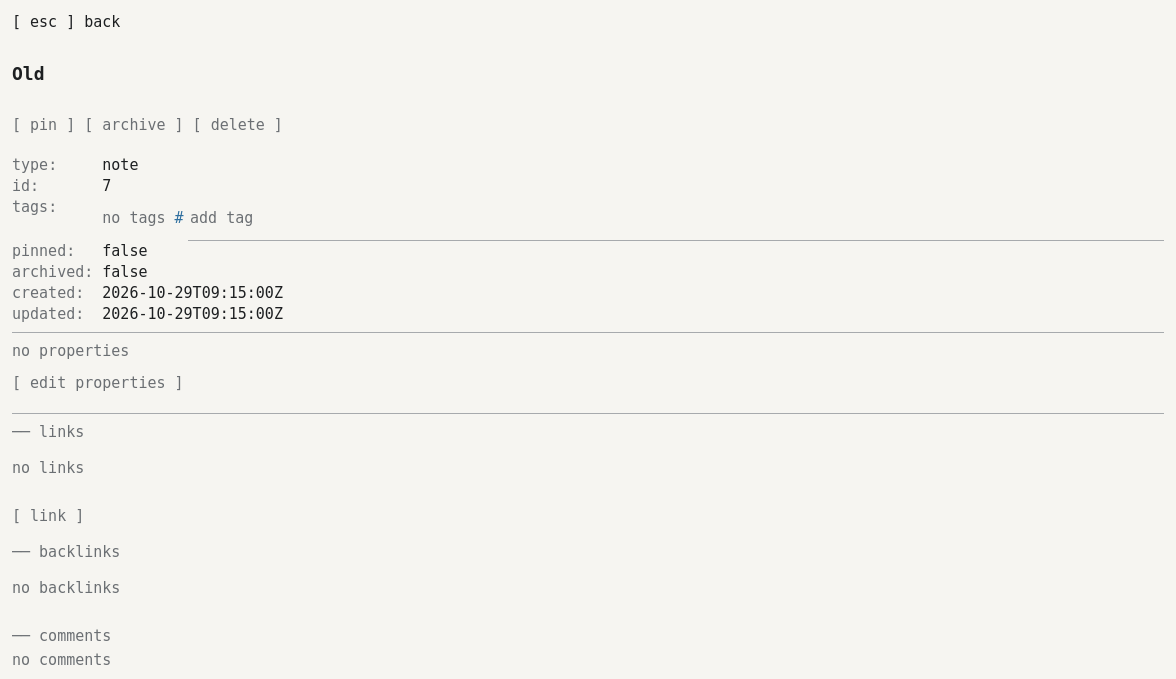
title › Enter saves the edited title with one PATCH
Click the button "Old". click: (28, 74)
box: 12,52 -> 44,96
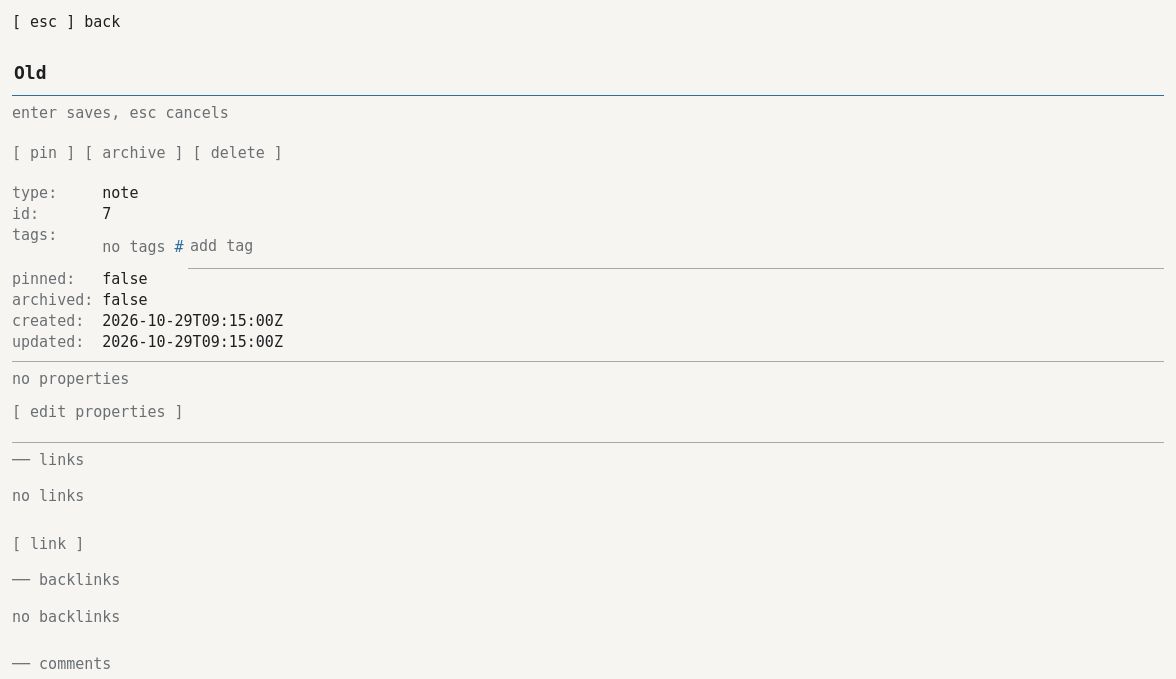
Replace the text in the field named "title" with "New". click: (588, 74)
box: 12,52 -> 1164,96
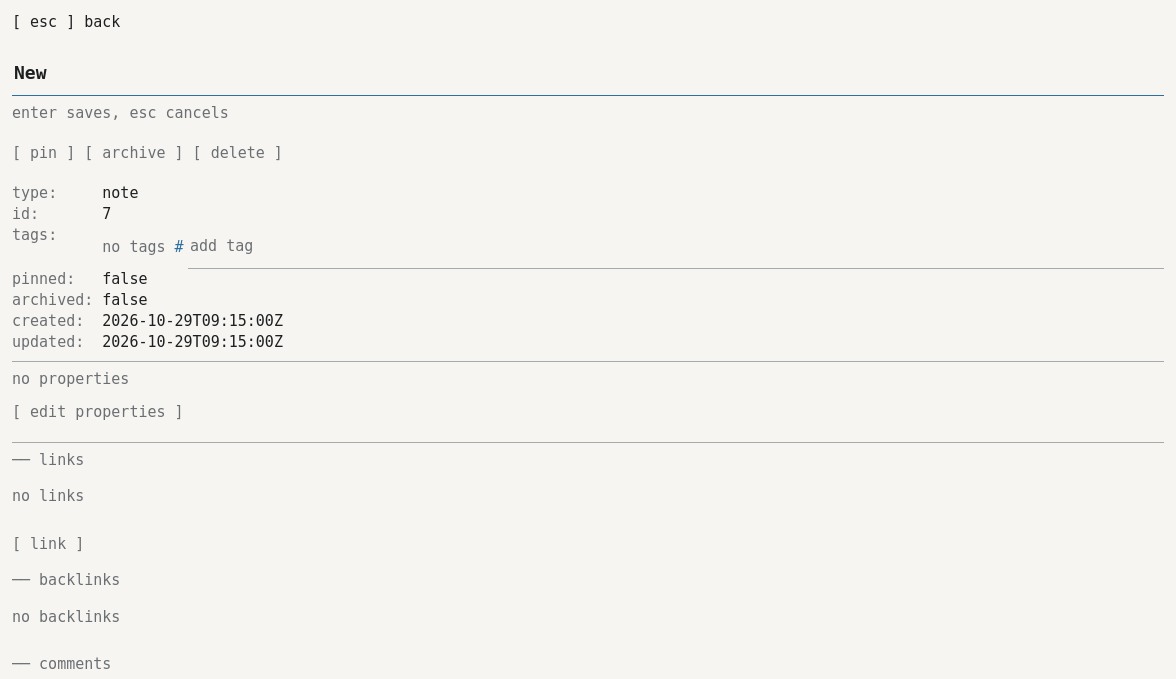
Press Enter in the field named "title", box 12,52 -> 1164,96
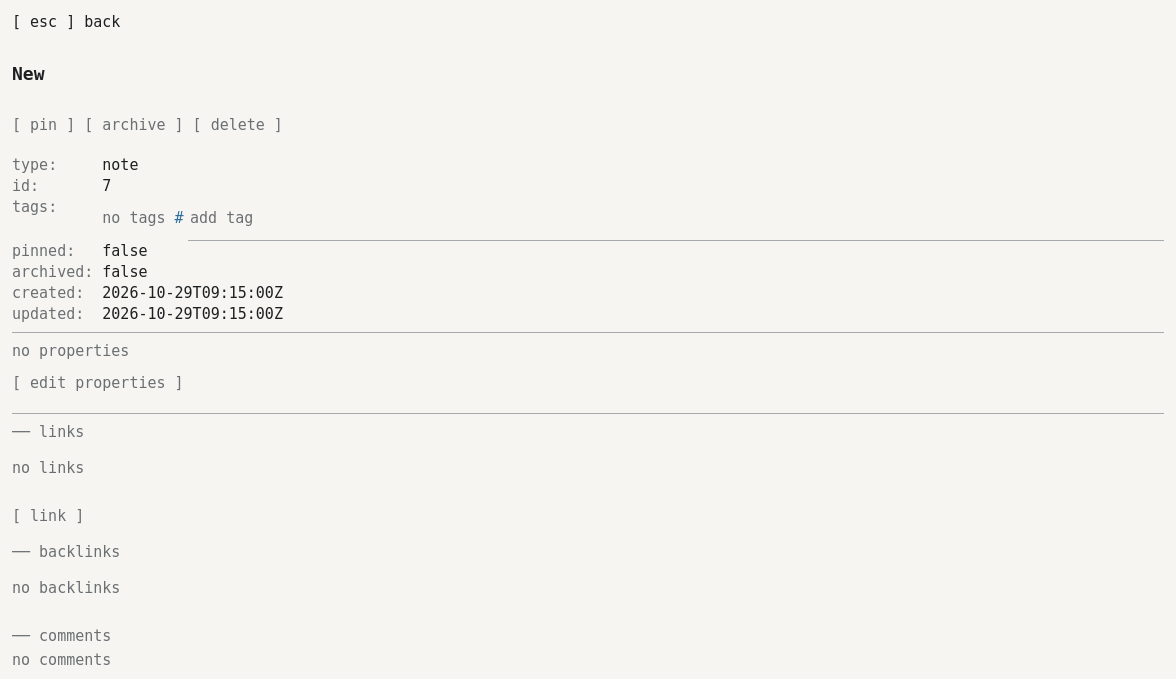
Now the heading "New" is shown, box 12,52 -> 44,96
